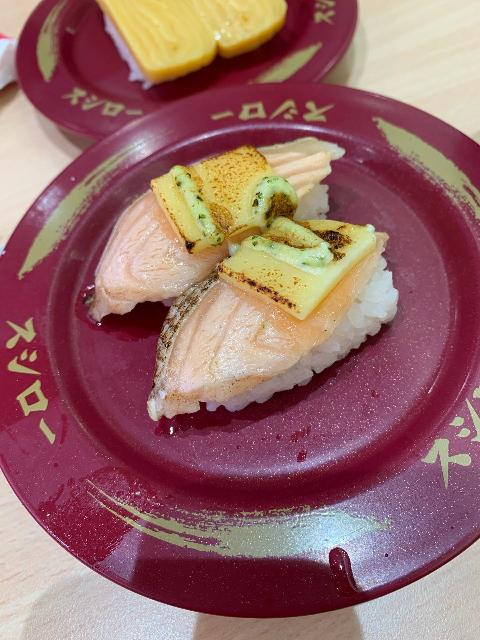janred: (37, 91, 480, 581), (6, 10, 363, 122)
